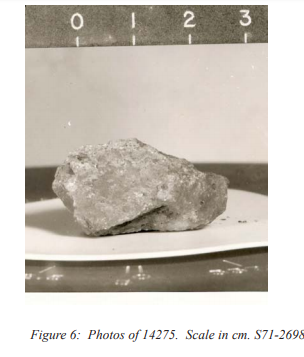Breccia: (49, 132, 237, 242)
